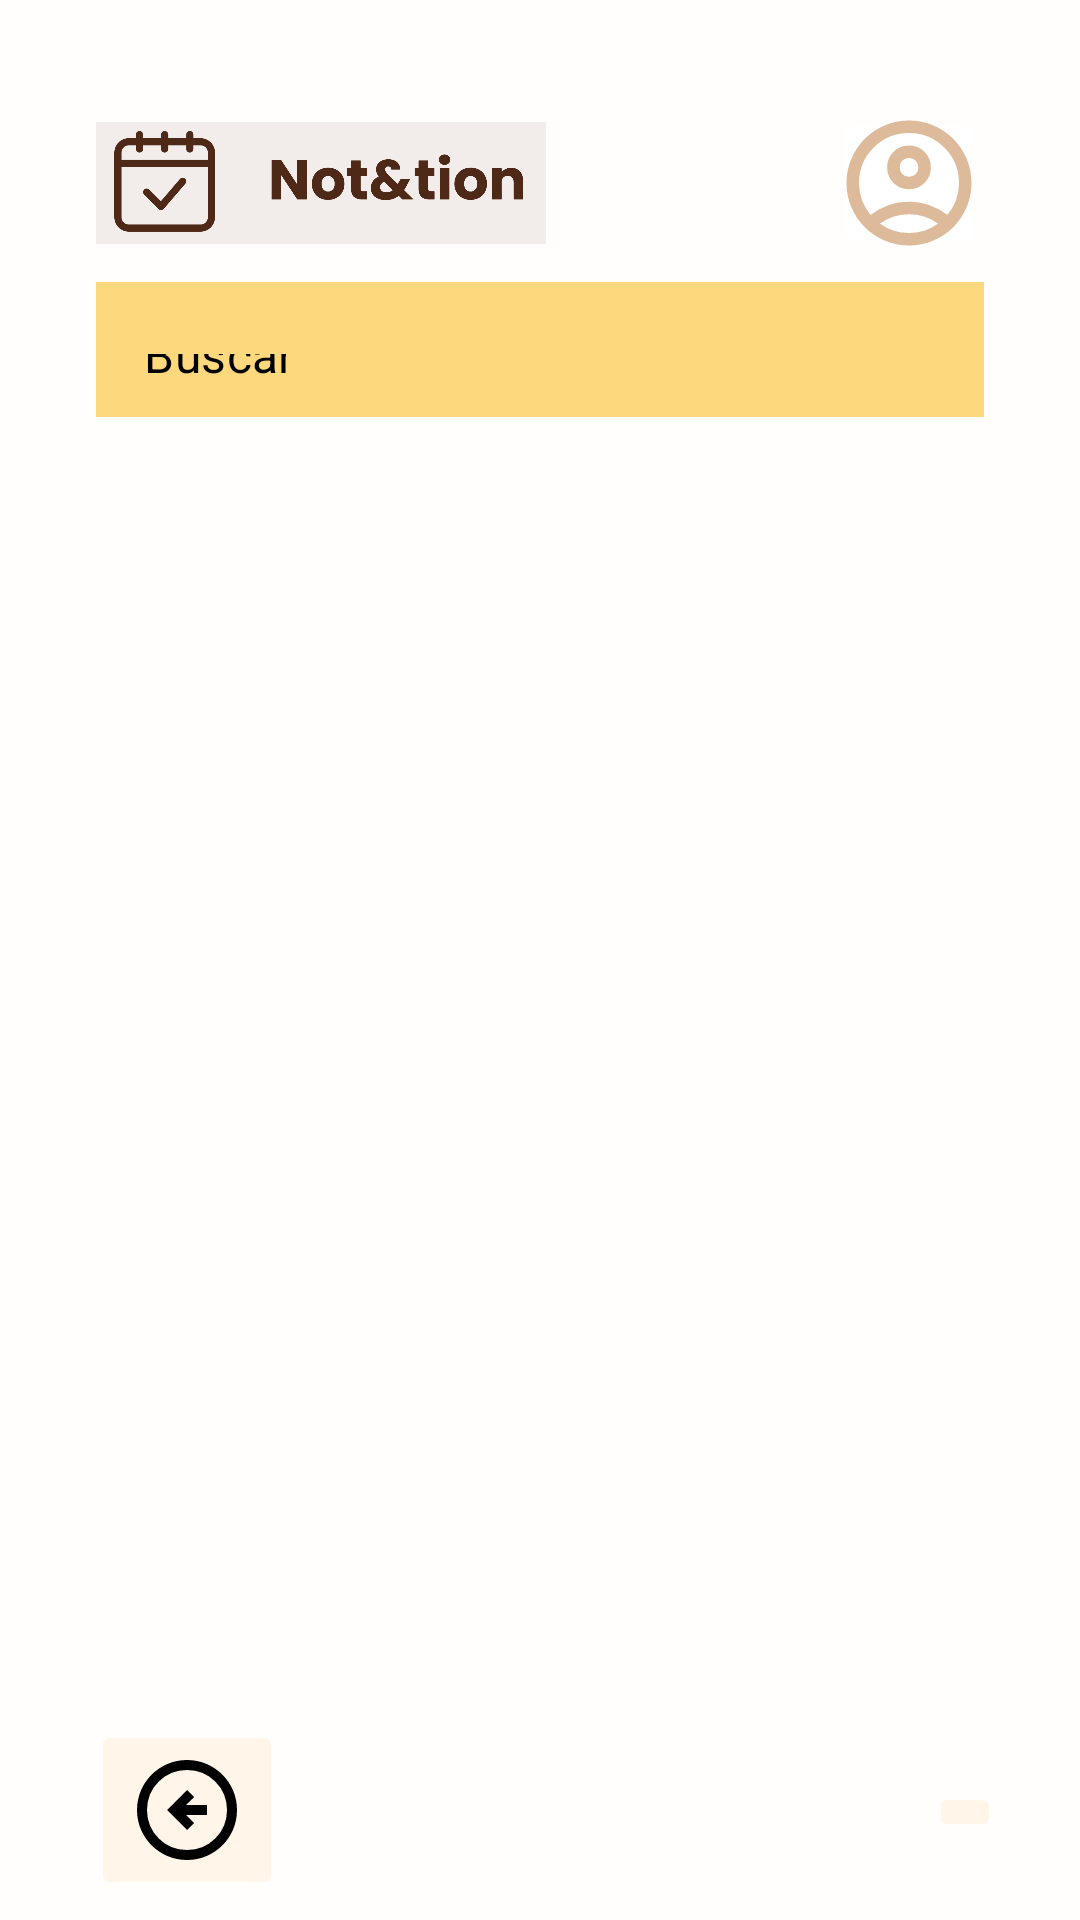

Point at icon controls on the screen. Image size 1080x1920, points as (x=x, y=y).
return: (x=187, y=1810)
user: (x=909, y=183)
